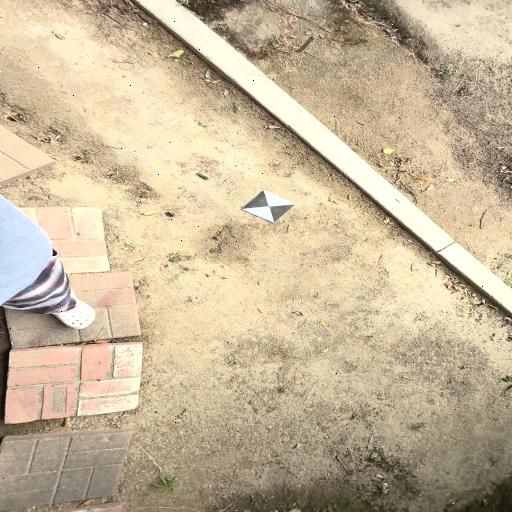target: (242, 190, 296, 222)
